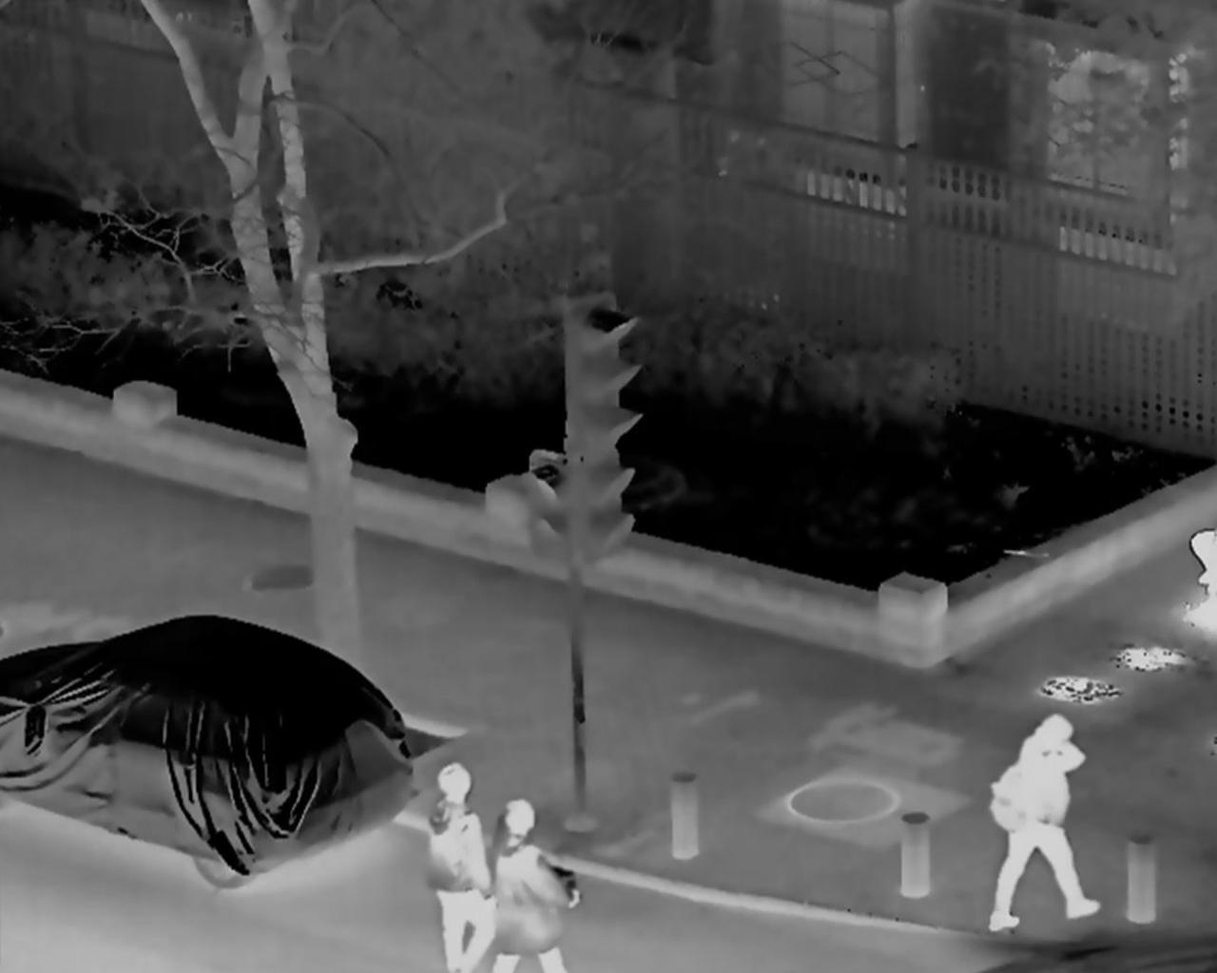person: (985, 714, 1099, 938), (415, 759, 494, 973), (489, 802, 573, 973)
